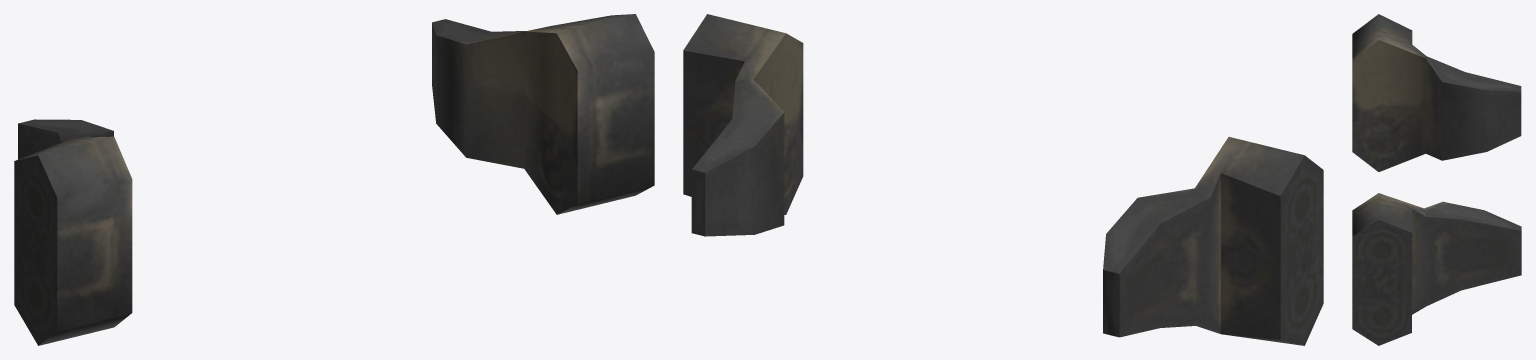
3 views of the same model, side by side, from view 1: azimuth 30°, elevation 25°; view 2: azimuth 150°, elevation 25°; view 3: azimuth 270°, elevation 25° (orthographic). The views are drawn at different scales.
Parts seen in each view (by area): view 1: set_0_group_0; view 2: set_0_group_0; view 3: set_0_group_0.
Boxes of the visible parts, box(x1,y1,x2,y2) form: set_0_group_0: box(14, 14, 654, 345); set_0_group_0: box(683, 14, 1323, 345); set_0_group_0: box(1352, 14, 1521, 345).
Bounding box in the file's own units: 0.4197 × 0.128 × 0.1483.
Materials: 1 (1 with a texture image).
